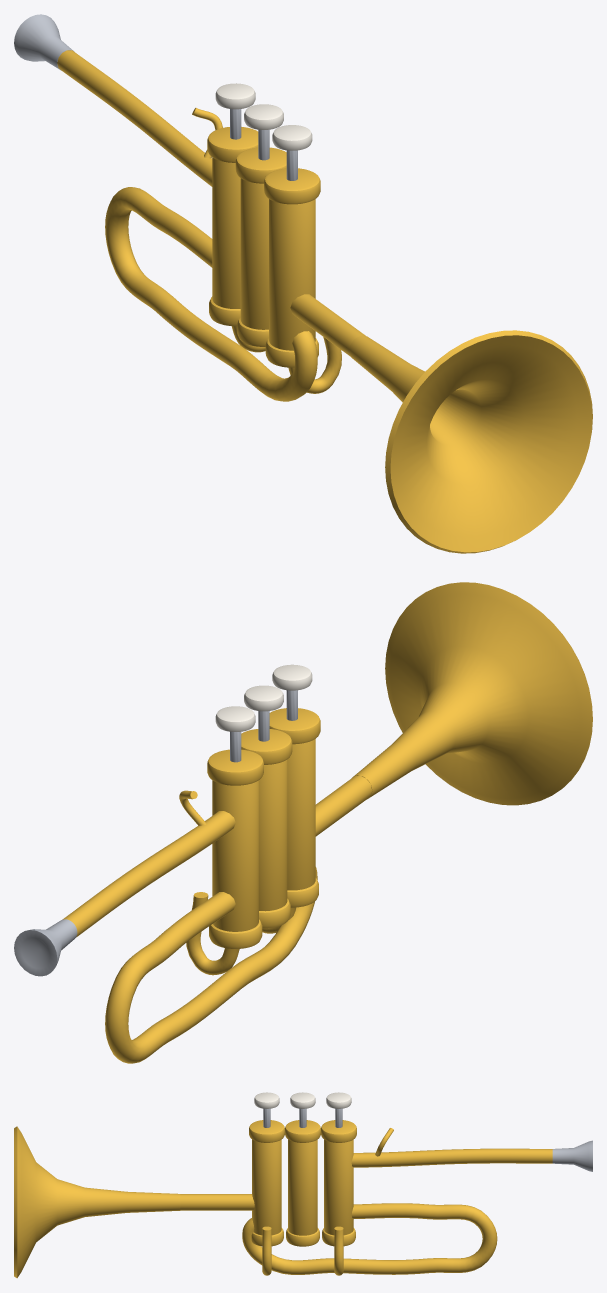
File: Trumpet.fbx
3 views of the same model, one above another, from view 1: azimuth 30°, elevation 25°; view 2: azimuth 150°, elevation 25°; view 3: azimuth 270°, elevation 25° (orthographic). The views are drawn at different scales.
Visible parts, largest first — view 1: Brass, Steel, Pearl; view 2: Brass, Steel, Pearl; view 3: Brass, Steel, Pearl.
Boxes of the visible parts, bbox=[...] form: Brass: bbox=[57, 50, 592, 553]; Steel: bbox=[14, 14, 297, 180]; Pearl: bbox=[215, 83, 312, 150]; Brass: bbox=[62, 582, 592, 1063]; Steel: bbox=[14, 690, 297, 976]; Pearl: bbox=[215, 664, 312, 731]; Brass: bbox=[14, 1120, 552, 1278]; Steel: bbox=[263, 1108, 592, 1171]; Pearl: bbox=[254, 1092, 351, 1108].
Bounding box in the file's own units: 72 × 92.53 × 273.
